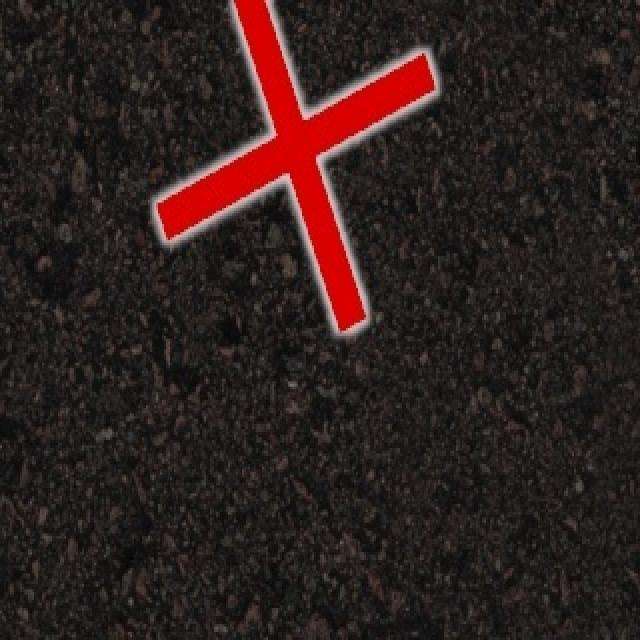x_marker: (155, 0, 435, 331)
